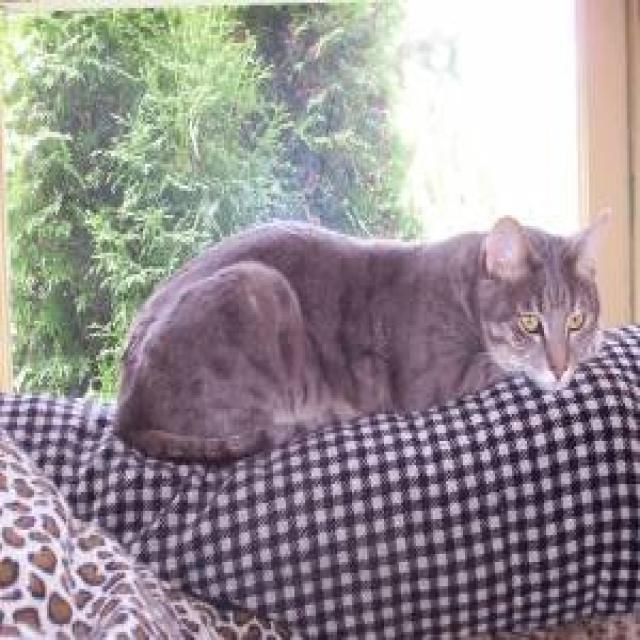Bengal: (473, 205, 606, 388)
